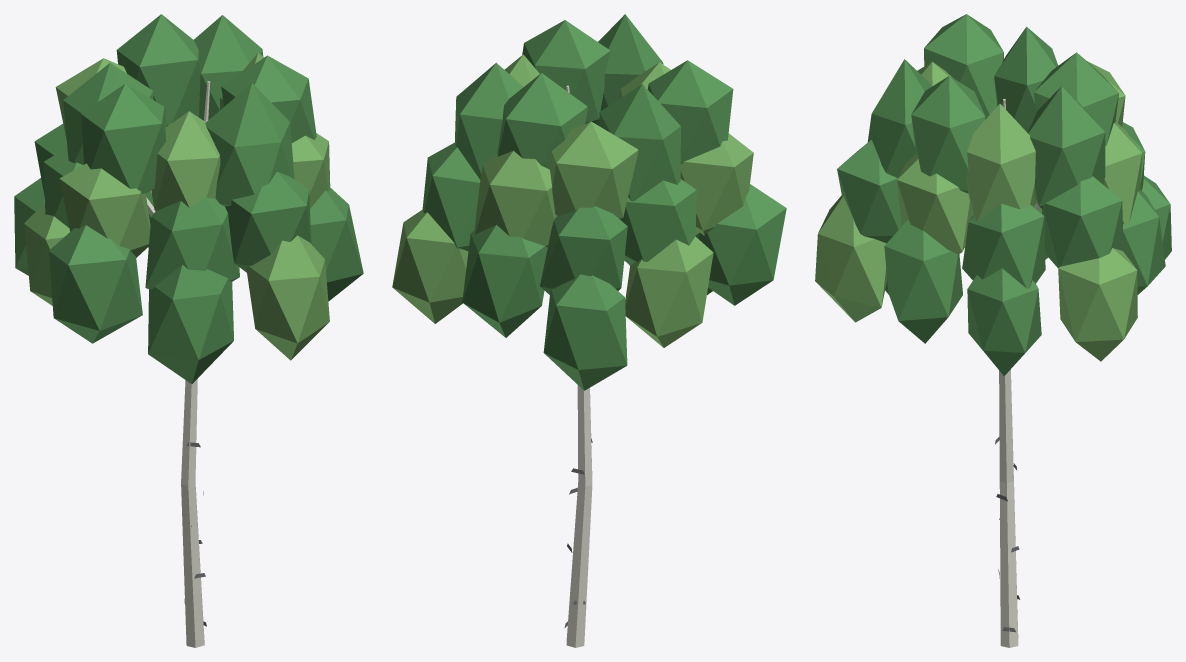
File: birch_03.glb
3 views of the same model, side by side, from view 1: azimuth 30°, elevation 25°; view 2: azimuth 150°, elevation 25°; view 3: azimuth 270°, elevation 25° (orthographic). The views are drawn at different scales.
Parts seen in each view (by area): view 1: Birch_03; view 2: Birch_03; view 3: Birch_03.
Part boxes in pixels (x1,y1,x2,y2): Birch_03: (14, 14, 363, 647); Birch_03: (392, 14, 786, 647); Birch_03: (815, 14, 1171, 647).
Bounding box in the file's own units: 8.5 × 16.03 × 8.75.
